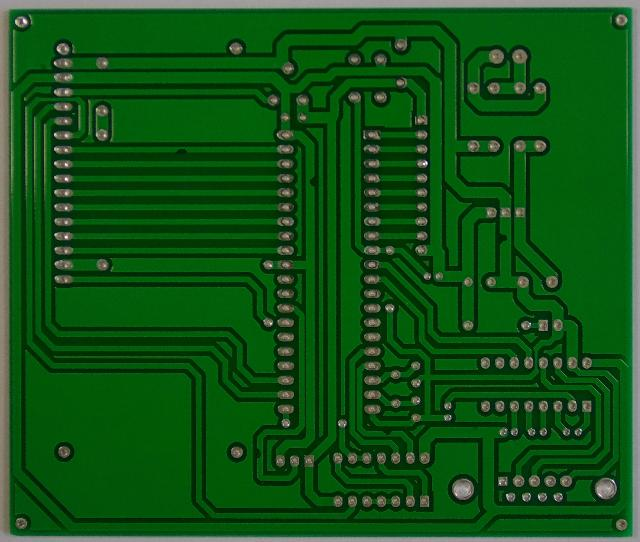mouse_bite: (172, 144, 192, 156), (306, 172, 318, 192), (498, 228, 509, 248), (254, 446, 264, 462), (380, 428, 394, 438)
